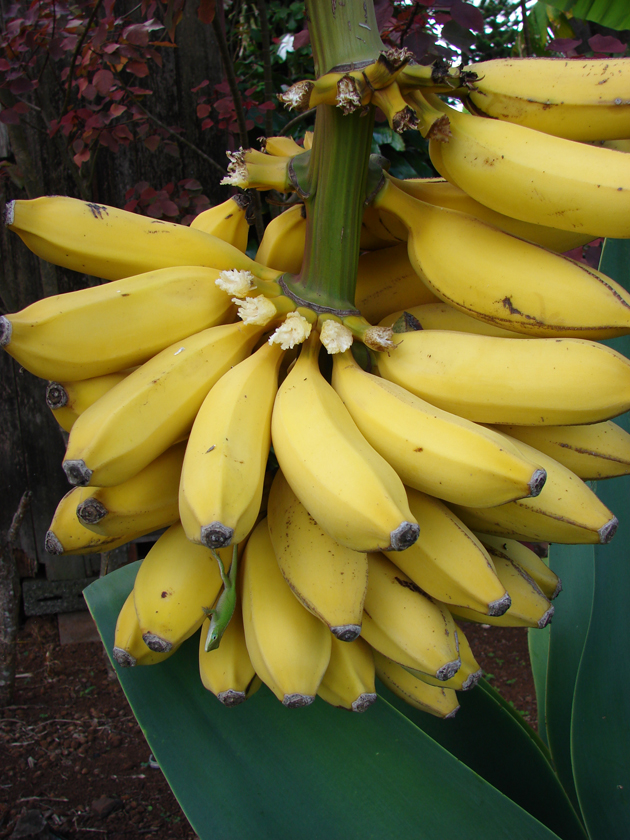looks_good: (20, 91, 630, 749)
